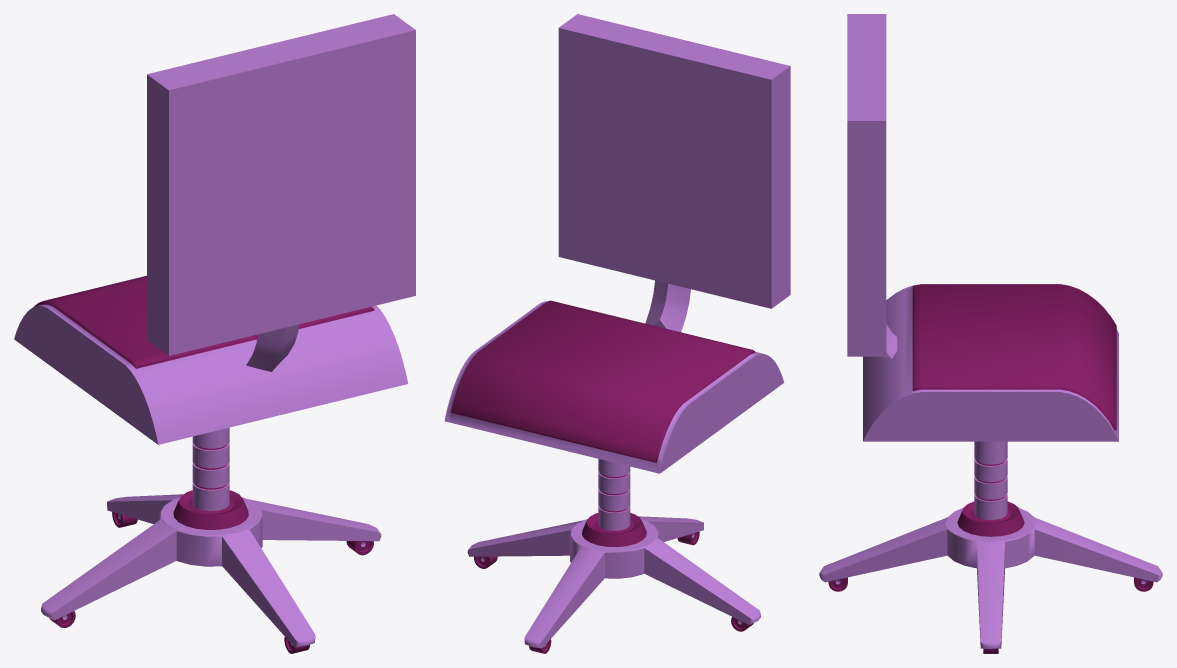
The model's file is chairCushion.glb.
3 views of the same model, side by side, from view 1: azimuth 30°, elevation 25°; view 2: azimuth 150°, elevation 25°; view 3: azimuth 270°, elevation 25° (orthographic). The views are drawn at different scales.
Visible parts, largest first — view 1: chairCuscion; view 2: chairCuscion; view 3: chairCuscion.
Boxes of the visible parts, x1,y1,x2,y2 form: chairCuscion: (14,14,415,653); chairCuscion: (444,14,790,653); chairCuscion: (819,14,1162,653).
Size of the model in its own units: 0.5944 by 0.9959 by 0.5944.
